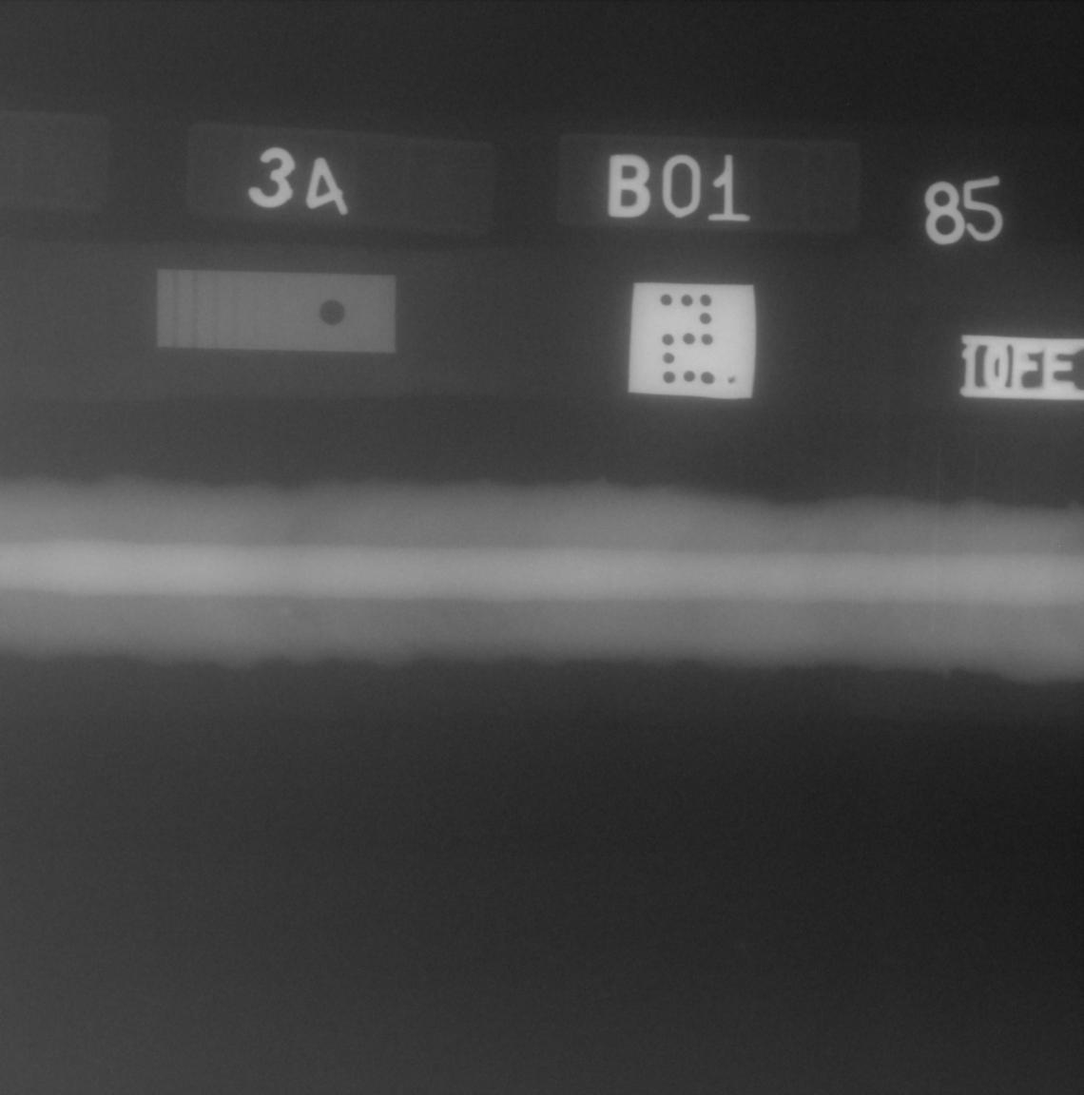Reference Standard 1: (157, 269, 396, 352)
